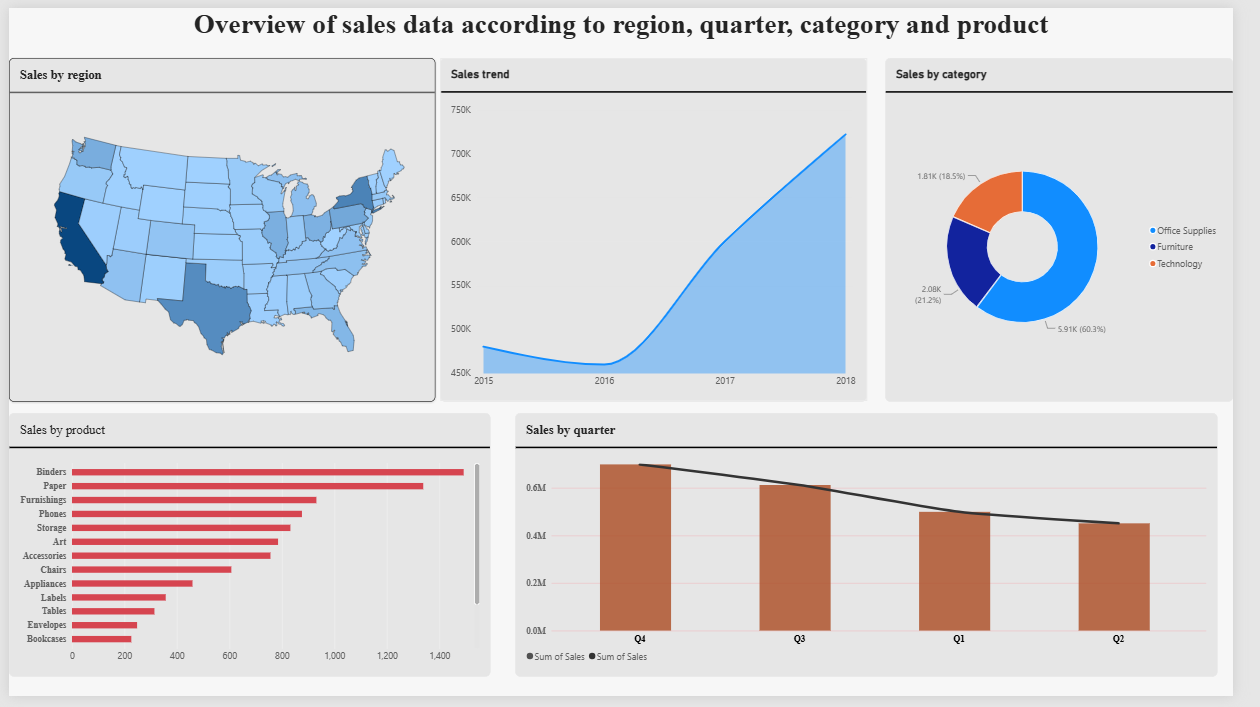

What the dashboard file says about the page in this screenshot:
{"tool":"powerbi","page":{"name":"Page 1","canvas":[1920,1080],"ordinal":0},"visuals":[{"type":"shapeMap","title":"Sales by region","fields":{"Category":["train.State"],"Value":["CountNonNull(train.Sales)"]},"box":[0,78.2,669,539.3],"z":0},{"type":"areaChart","title":"Sales trend","fields":{"Category":["train.Year"],"Y":["Sum(train.Sales)"]},"box":[677.2,78.2,669,539.3],"z":1000},{"type":"donutChart","title":"Sales by category","fields":{"Category":["train.Category"],"Y":["CountNonNull(train.Category)"]},"box":[1375,78.2,545.5,539.3],"z":2000},{"type":"lineClusteredColumnComboChart","title":"Sales by quarter","fields":{"Category":["train.Quarter"],"Y":["Sum(train.Sales)"],"Y2":["Sum(train.Sales)"]},"box":[794.5,636,1101.2,413.7],"z":3000},{"type":"barChart","title":"Sales by product","fields":{"Category":["train.Sub-Category"],"Y":["CountNonNull(train.Sales)"]},"box":[0,636,755.4,413.7],"z":4000},{"type":"textbox","box":[0,0,1920.4,78.2],"z":4001}]}

Visuals, with their boxes in screenshot pixels (x1, y1, x2, y2), scaled from the page's 1920x1080 canvas onto the 1260x707 screenshot:
"Sales by region" shapeMap: <box>0,51,439,404</box>
"Sales trend" areaChart: <box>444,51,883,404</box>
"Sales by category" donutChart: <box>902,51,1259,404</box>
"Sales by quarter" lineClusteredColumnComboChart: <box>521,416,1244,687</box>
"Sales by product" barChart: <box>0,416,496,687</box>
textbox: <box>0,0,1259,51</box>
